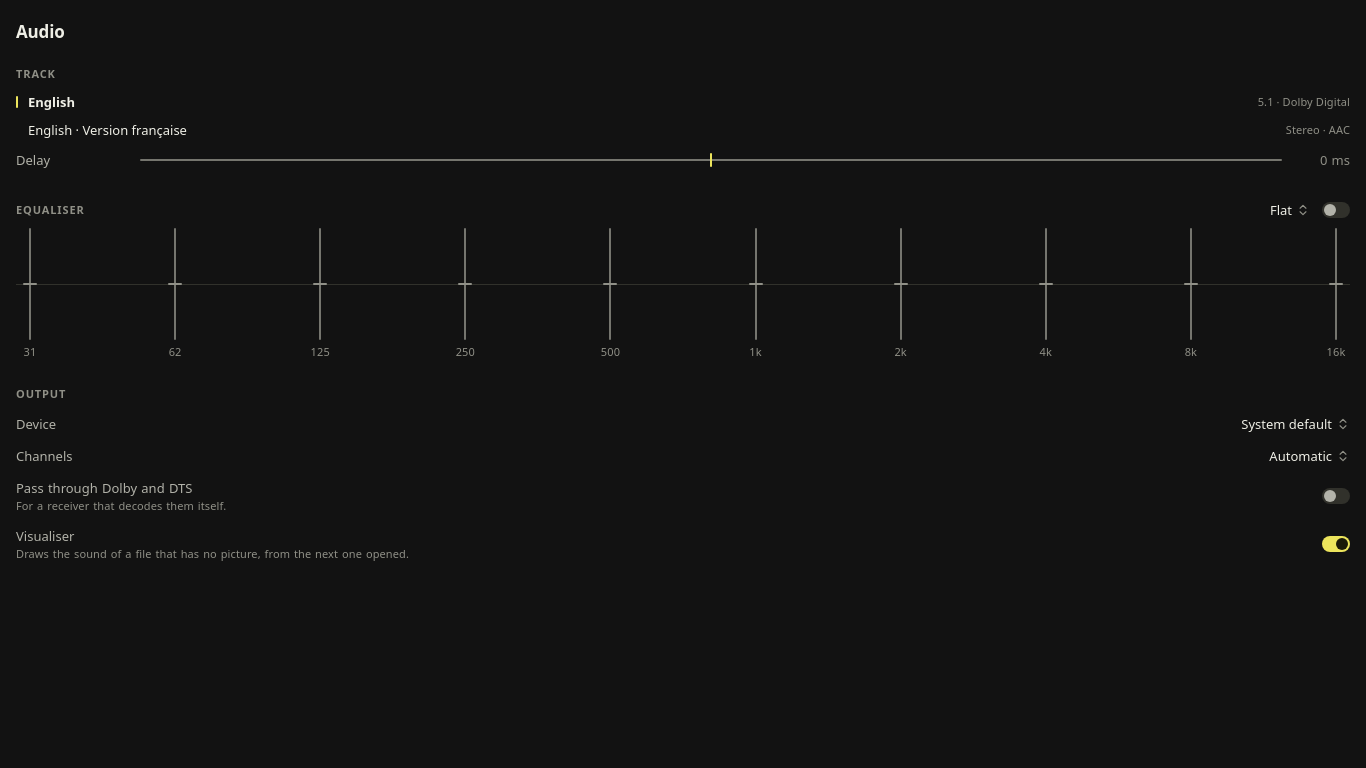
Test: the Equaliser group › applies a preset, and is reset through Flat, its first choice
Later steps or results of the test are not shown.
Click the button "Flat" at [1288, 210], box [1262, 196, 1314, 224]
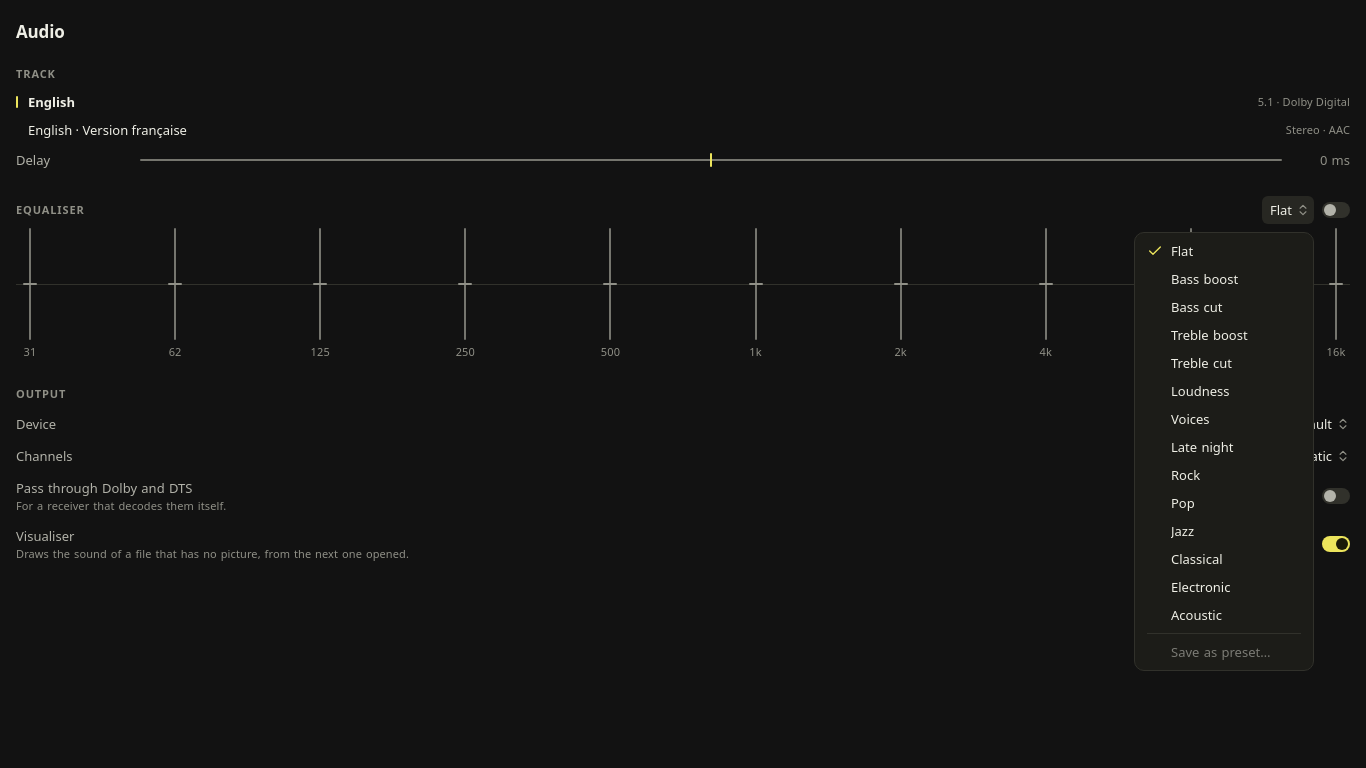
Expected: the menu item "Flat" is shown, [1147, 242, 1193, 260]
